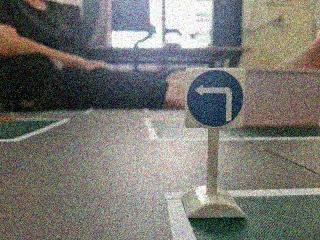left: (185, 68, 246, 129)
